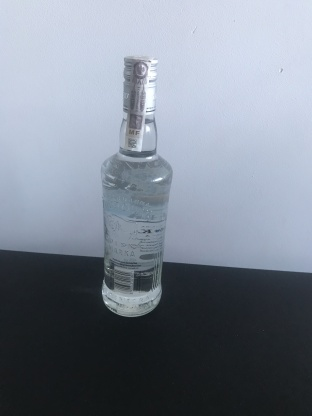nakretka: (120, 51, 160, 117)
